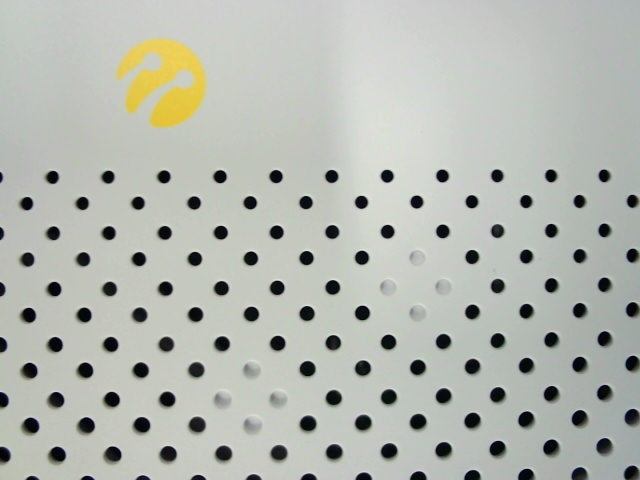AV_H3600Yellow: (99, 36, 217, 136)
